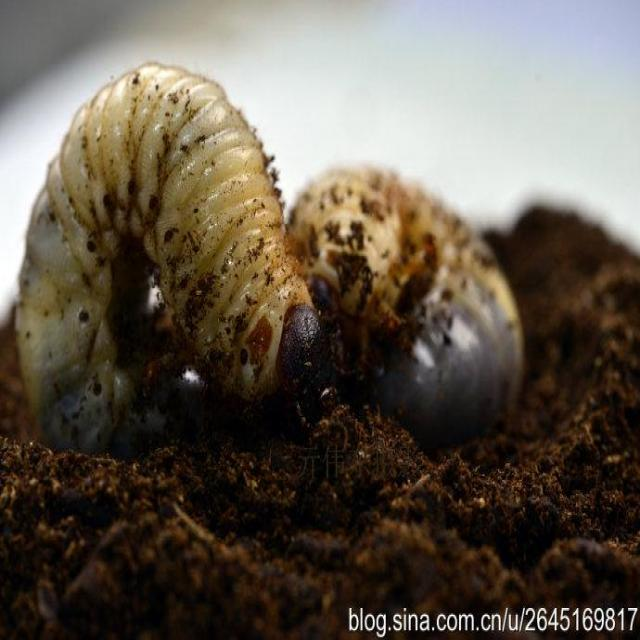Grub-Adult-: (16, 64, 330, 467)
